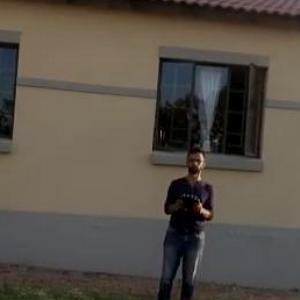follow: (145, 142, 215, 299)
